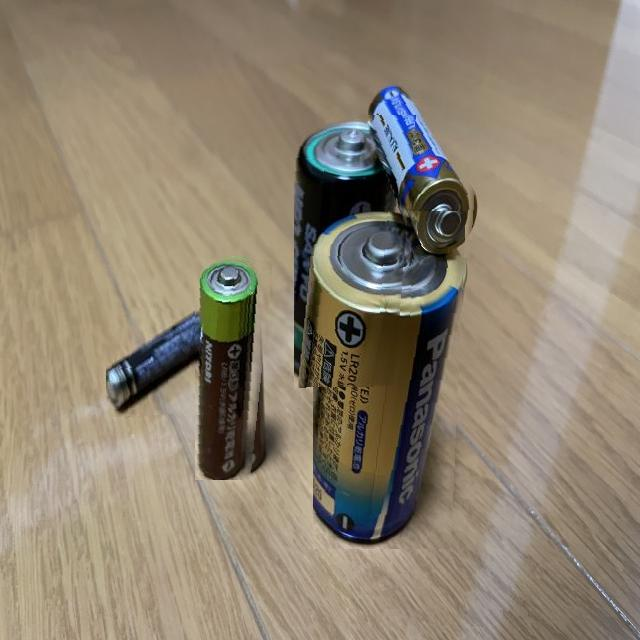battery: (313, 209, 466, 549), (294, 115, 416, 388), (368, 80, 482, 258), (195, 253, 273, 480), (106, 308, 233, 418)
